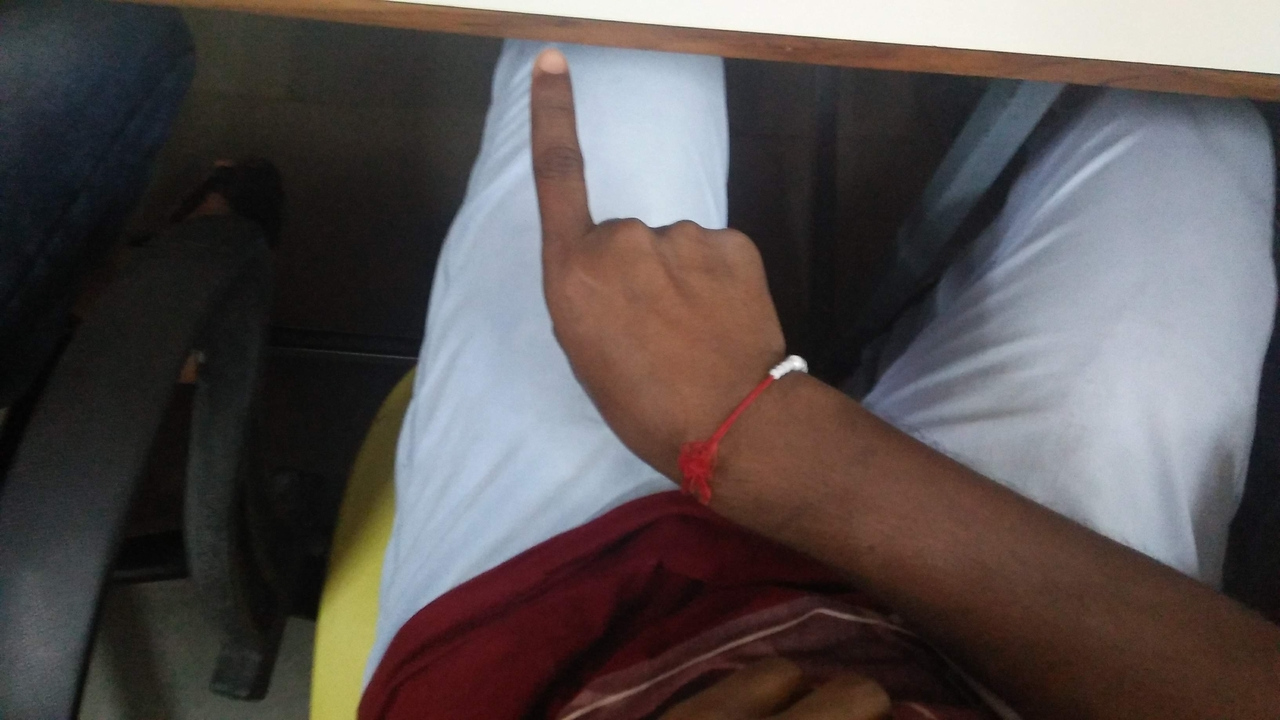fingertip: (522, 40, 580, 88)
